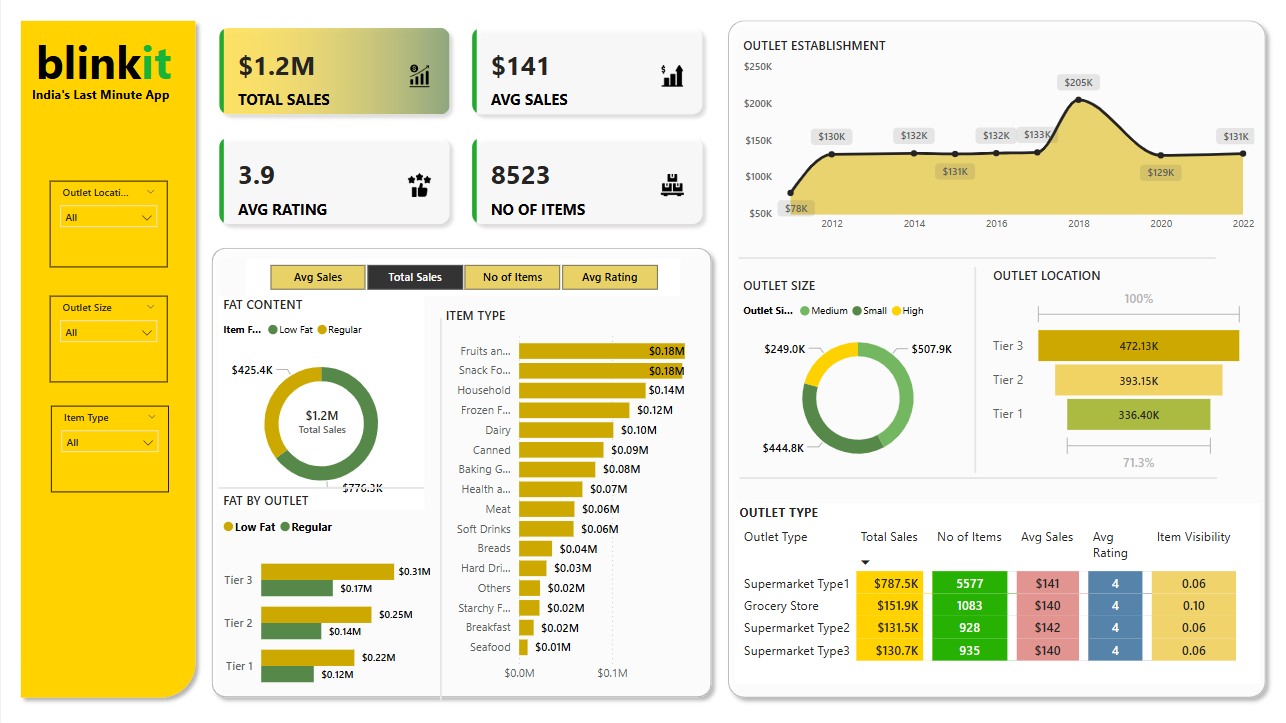

The dashboard page shown, as its layout file describes it:
{"tool":"powerbi","page":{"name":"Page 1","canvas":[1400,800],"ordinal":0},"visuals":[{"type":"shape","box":[12,31.5,205.6,744.4],"z":0},{"type":"textbox","box":[32.2,46.9,167.6,75.1],"z":1000},{"type":"textbox","box":[28.5,106.6,172.6,30],"z":2000},{"type":"cardVisual","fields":{"Data":["BlinkIT Grocery Data.Total Sales","BlinkIT Grocery Data.Avg Sales","BlinkIT Grocery Data.Avg Rating","BlinkIT Grocery Data.No of Items"]},"box":[217.6,31.5,553.8,244.6],"z":3000},{"type":"shape","box":[217.6,276.2,553.8,499.8],"z":4000},{"type":"donutChart","title":"FAT CONTENT","fields":{"Y":["BlinkIT Grocery Data.Total Sales"],"Category":["BlinkIT Grocery Data.Item Fat Content"]},"box":[232.6,336.2,220.6,229.6],"z":5000},{"type":"slicer","fields":{"Values":["Metrics.Metrics"]},"box":[262.7,295.7,465.3,40.5],"z":6000},{"type":"cardVisual","fields":{"Data":["BlinkIT Grocery Data.Total Sales"]},"box":[298.7,438.3,91.6,52.5],"z":7000},{"type":"clusteredBarChart","title":"FAT BY OUTLET","fields":{"Y":["BlinkIT Grocery Data.Total Sales"],"Category":["BlinkIT Grocery Data.Outlet Location Type"],"Series":["BlinkIT Grocery Data.Item Fat Content"]},"box":[232.6,546.3,232.6,229.6],"z":8000},{"type":"shape","box":[232.6,526.8,220.6,31.5],"z":9000},{"type":"shape","box":[447.3,360.2,48,411.2],"z":10000},{"type":"barChart","title":"ITEM TYPE","fields":{"Y":["BlinkIT Grocery Data.Total Sales"],"Category":["BlinkIT Grocery Data.Item Type"]},"box":[471.3,348.2,283.7,411.2],"z":11000},{"type":"shape","box":[771.4,31.5,594.3,744.4],"z":12000},{"type":"lineChart","title":"OUTLET ESTABLISHMENT","fields":{"Category":["BlinkIT Grocery Data.Outlet Establishment Year"],"Y":["BlinkIT Grocery Data.Total Sales"]},"box":[791,58.5,558.3,217.6],"z":13000},{"type":"shape","box":[791,285.2,511.8,21],"z":14000},{"type":"donutChart","title":"OUTLET SIZE","fields":{"Y":["BlinkIT Grocery Data.Total Sales"],"Category":["BlinkIT Grocery Data.Outlet Size"]},"box":[791,316.7,256.6,214.6],"z":15000},{"type":"shape","box":[1040.1,306.2,9,220.6],"z":16000},{"type":"funnel","title":"OUTLET LOCATION","fields":{"Y":["Sum(BlinkIT Grocery Data.Sales)"],"Category":["BlinkIT Grocery Data.Outlet Location Type"]},"box":[1059.6,306.2,279.2,225.1],"z":17000},{"type":"shape","box":[792.5,520.8,511.8,21],"z":18000},{"type":"pivotTable","title":"OUTLET TYPE","fields":{"Rows":["BlinkIT Grocery Data.Outlet Type"],"Values":["BlinkIT Grocery Data.Total Sales","BlinkIT Grocery Data.No of Items","BlinkIT Grocery Data.Avg Sales","BlinkIT Grocery Data.Avg Rating","Avg(BlinkIT Grocery Data.Item Visibility)"]},"box":[786.5,558.3,562.8,193.6],"z":19000},{"type":"slicer","fields":{"Values":["BlinkIT Grocery Data.Outlet Location Type"]},"box":[52.3,213.1,126,92.5],"z":20000},{"type":"slicer","fields":{"Values":["BlinkIT Grocery Data.Outlet Size"]},"box":[52.3,336.5,126,92.5],"z":21000},{"type":"slicer","fields":{"Values":["BlinkIT Grocery Data.Item Type"]},"box":[53.6,454.4,126,92.5],"z":21001}]}

Visuals, with their boxes in screenshot pixels (x1, y1, x2, y2), scaled from the page's 1400x800 canvas onto the 1286x723 screenshot:
shape: box=[11, 28, 200, 701]
textbox: box=[30, 42, 184, 110]
textbox: box=[26, 96, 185, 123]
cardVisual - BlinkIT Grocery Data.Total Sales x BlinkIT Grocery Data.Avg Sales: box=[200, 28, 709, 250]
shape: box=[200, 250, 709, 701]
"FAT CONTENT" donutChart: box=[214, 304, 416, 511]
slicer - Metrics.Metrics: box=[241, 267, 669, 304]
cardVisual - BlinkIT Grocery Data.Total Sales: box=[274, 396, 359, 444]
"FAT BY OUTLET" clusteredBarChart: box=[214, 494, 427, 701]
shape: box=[214, 476, 416, 505]
shape: box=[411, 326, 455, 697]
"ITEM TYPE" barChart: box=[433, 315, 694, 686]
shape: box=[709, 28, 1254, 701]
"OUTLET ESTABLISHMENT" lineChart: box=[727, 53, 1239, 250]
shape: box=[727, 258, 1197, 277]
"OUTLET SIZE" donutChart: box=[727, 286, 962, 480]
shape: box=[955, 277, 964, 476]
"OUTLET LOCATION" funnel: box=[973, 277, 1230, 480]
shape: box=[728, 471, 1198, 490]
"OUTLET TYPE" pivotTable: box=[722, 505, 1239, 680]
slicer - BlinkIT Grocery Data.Outlet Location Type: box=[48, 193, 164, 276]
slicer - BlinkIT Grocery Data.Outlet Size: box=[48, 304, 164, 388]
slicer - BlinkIT Grocery Data.Item Type: box=[49, 411, 165, 494]
